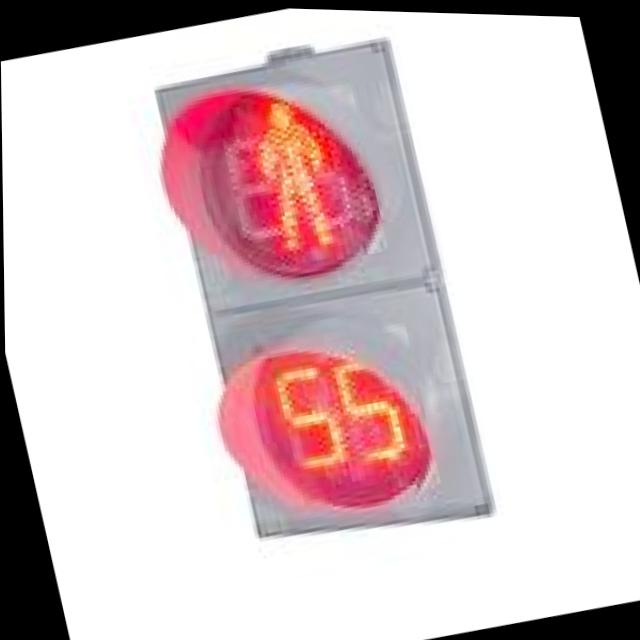red_light: (89, 43, 450, 351)
